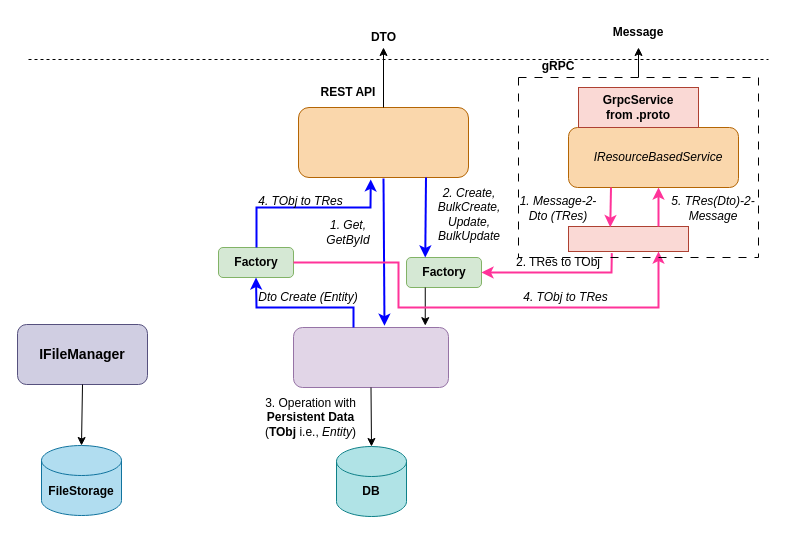
The diagram is 787 pixels wide and 534 high, and some of its shapes have lost their labels. Here are the shapes that lost their labels. From the top down, the box of each, then its label:
(298, 106, 468, 178): Controller
(568, 226, 688, 252): Message-to-Dto Converter
(292, 326, 448, 388): IModelManager
